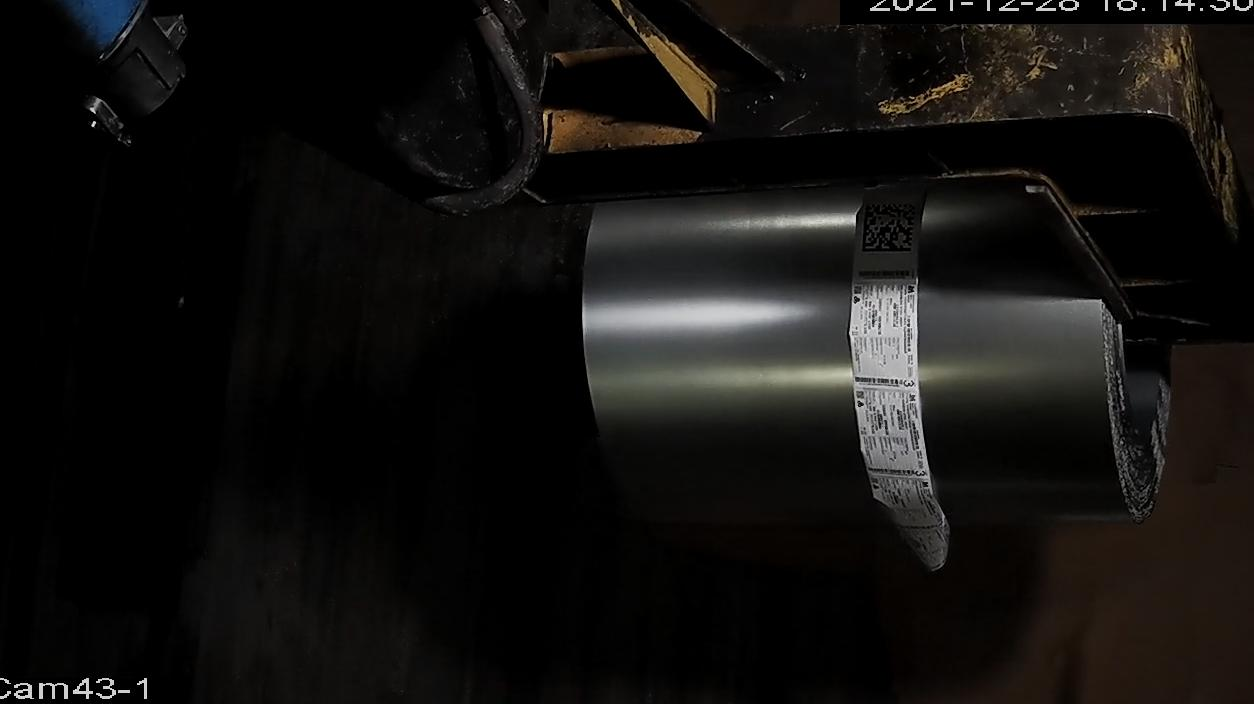data matrix: (861, 201, 920, 256)
